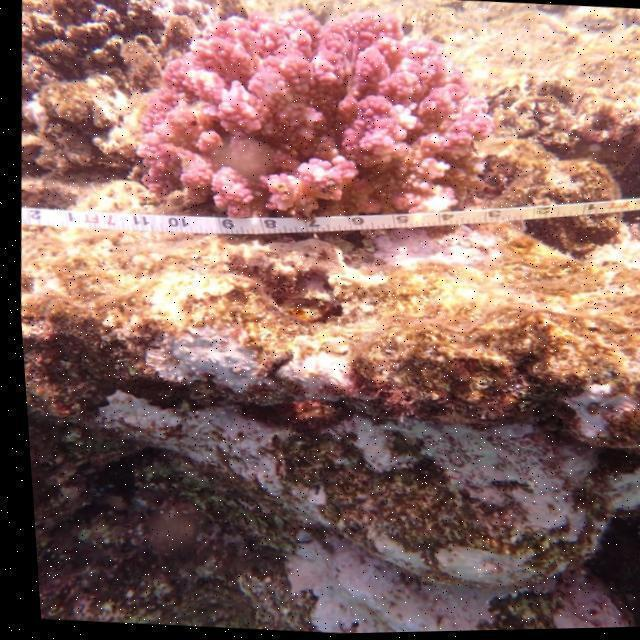Bleached Coral: (131, 323, 261, 397)
Healthy Coral: (119, 28, 527, 219)
